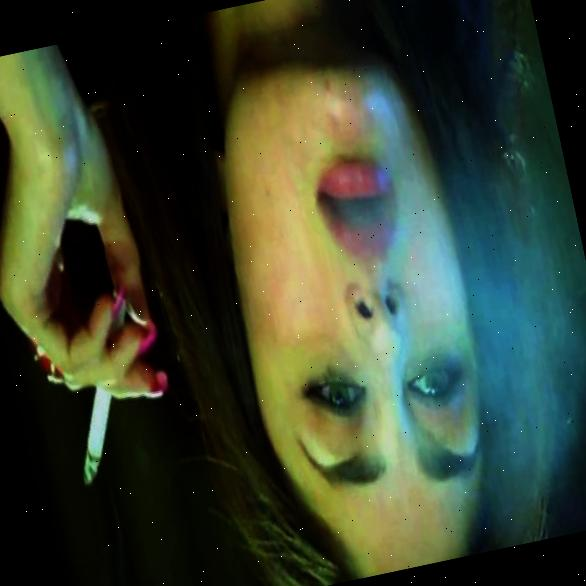smoke: (374, 96, 586, 549)
